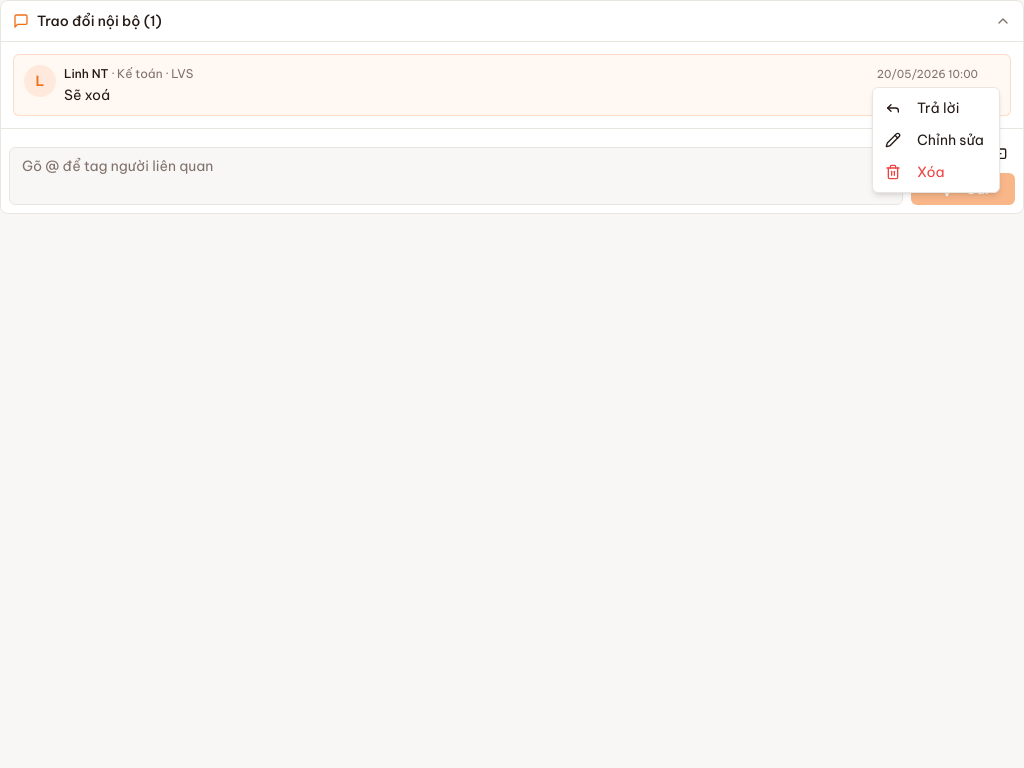
it: InternalChat — xoá mềm › đánh dấu is_deleted và hiển thị 'Tin nhắn đã bị xóa'
This screenshot has width=1024, height=768.
Earlier steps of the test are not shown.
Click the menu item "Xóa". click: (915, 172)
box: [885, 163, 945, 181]
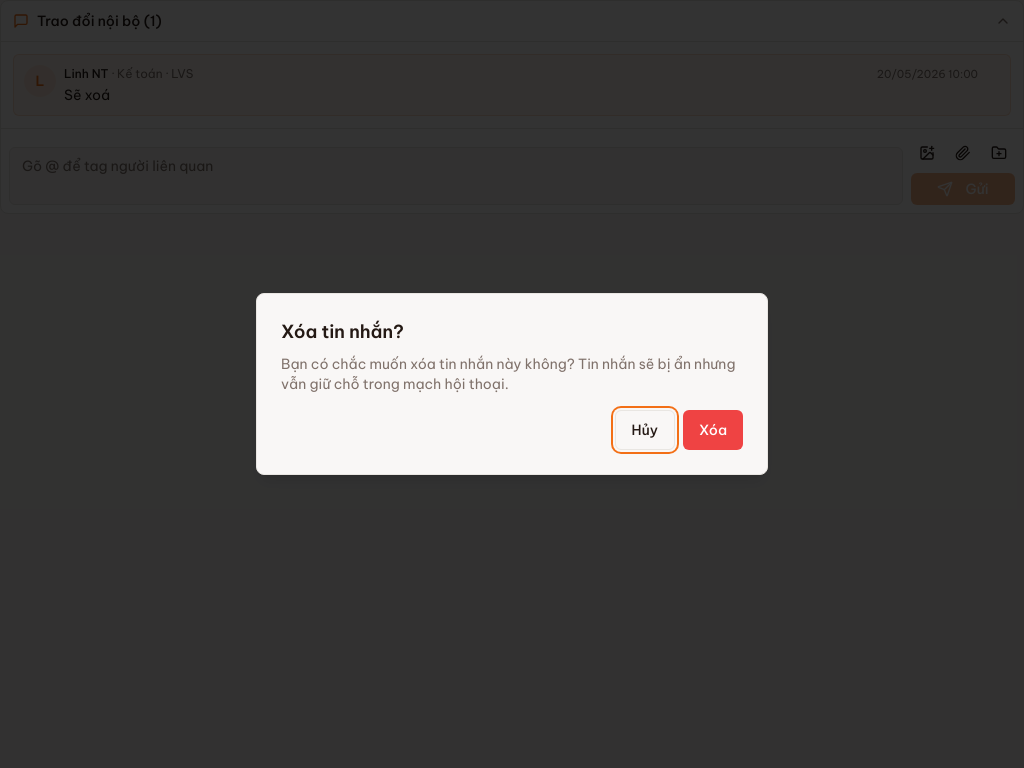
Click the button "Xóa". click: (713, 430)
box: [683, 410, 743, 450]
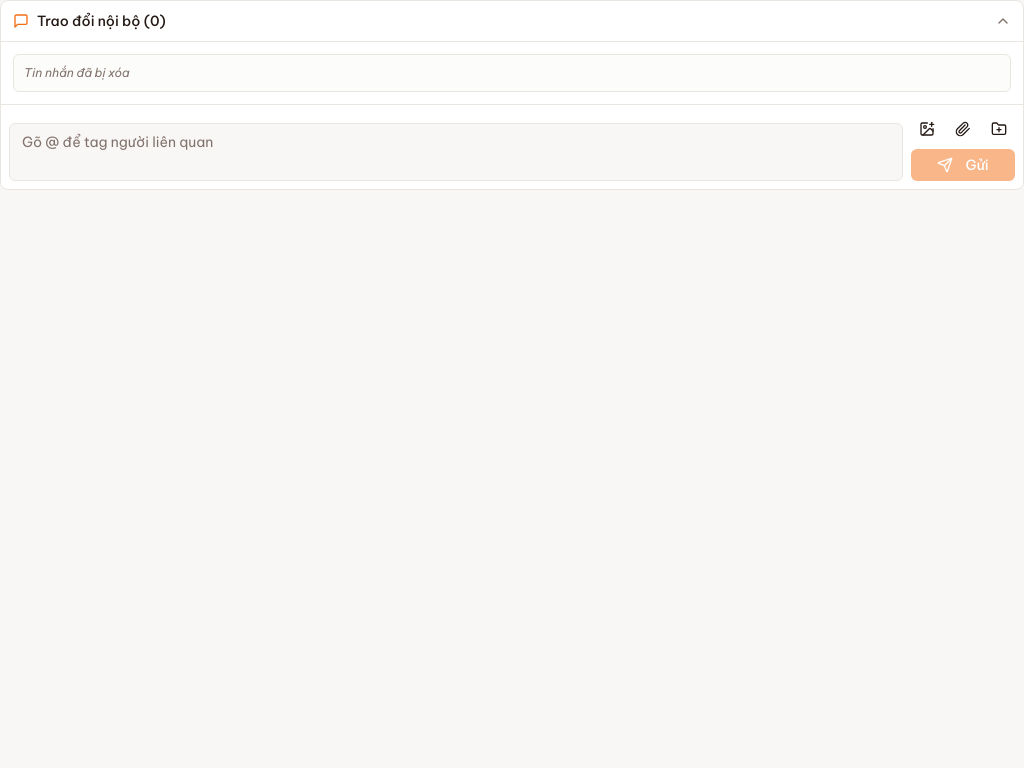
Check: the text "Tin nhắn đã bị xóa" is shown, box [24, 65, 130, 81]
